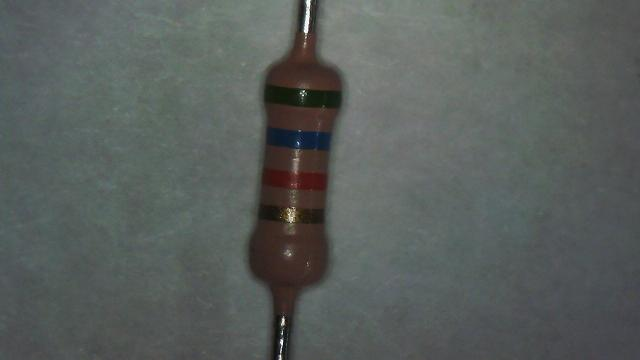blue: (266, 127, 331, 149)
gold: (258, 204, 324, 223)
green: (264, 84, 342, 107)
orange: (262, 168, 326, 190)
resistor: (229, 35, 354, 325)
